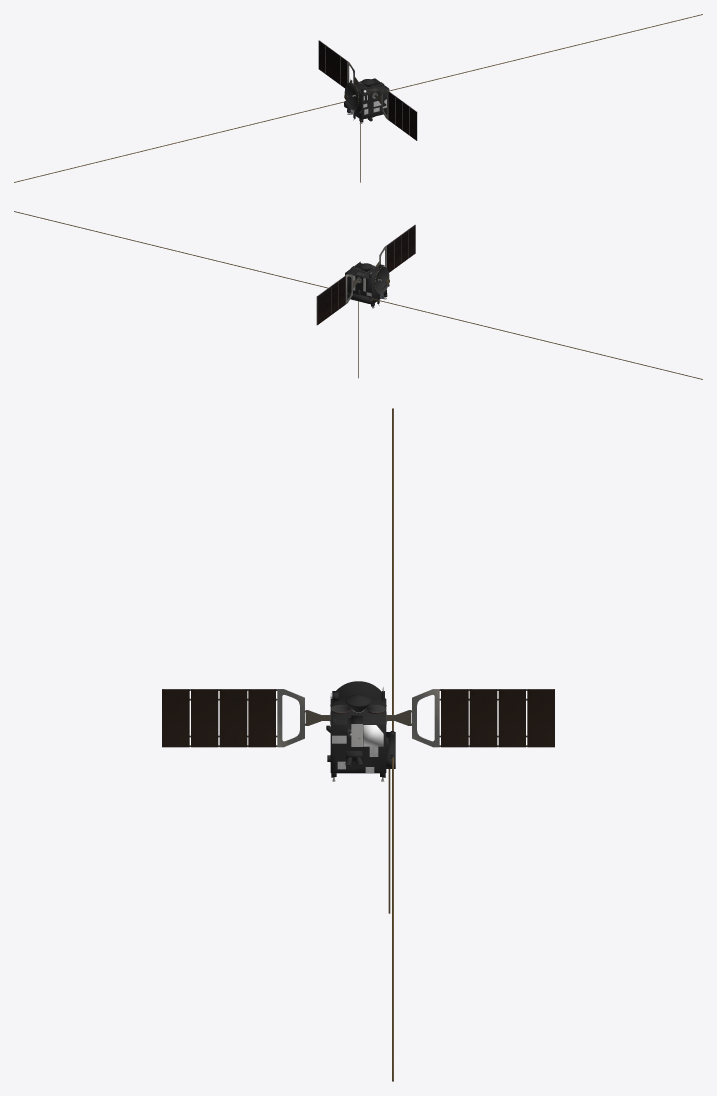
File: mars_express.gltf
3 renders of one model, top to bottom at view 1: azimuth 30°, elevation 25°; view 2: azimuth 150°, elevation 25°; view 3: azimuth 270°, elevation 25°, orthographic. The views are drawn at different scales.
Parts seen in each view (by area): view 1: shiny_panel, tex_01, MarsExpress, AO_dish, tex_03; view 2: shiny_panel, tex_01, MarsExpress, AO_dish, tex_03; view 3: tex_01, MarsExpress, tex_03.
Boxes of the visible parts, left/top/right/bottom form: shiny_panel: left=318, top=40, right=416, bottom=140; tex_01: left=14, top=14, right=702, bottom=182; MarsExpress: left=344, top=78, right=389, bottom=122; AO_dish: left=344, top=81, right=377, bottom=109; tex_03: left=325, top=45, right=402, bottom=130; shiny_panel: left=317, top=225, right=415, bottom=324; tex_01: left=14, top=211, right=702, bottom=379; MarsExpress: left=345, top=261, right=389, bottom=306; AO_dish: left=357, top=265, right=389, bottom=294; tex_03: left=331, top=229, right=408, bottom=314; tex_01: left=162, top=408, right=554, bottom=1081; MarsExpress: left=326, top=681, right=395, bottom=777; tex_03: left=189, top=686, right=527, bottom=781.
Bounding box in the file's own units: 48.43 × 7.53 × 11.97.
7 materials, 5 textured.
